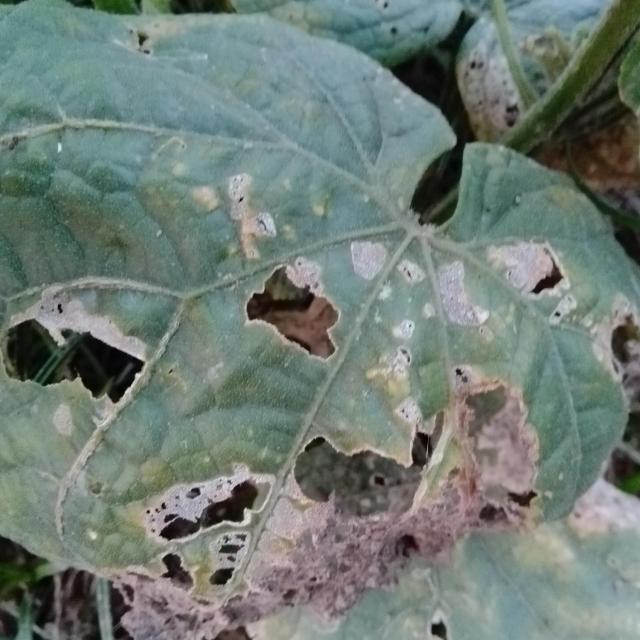cucumber_anthracnose: (7, 55, 635, 566)
